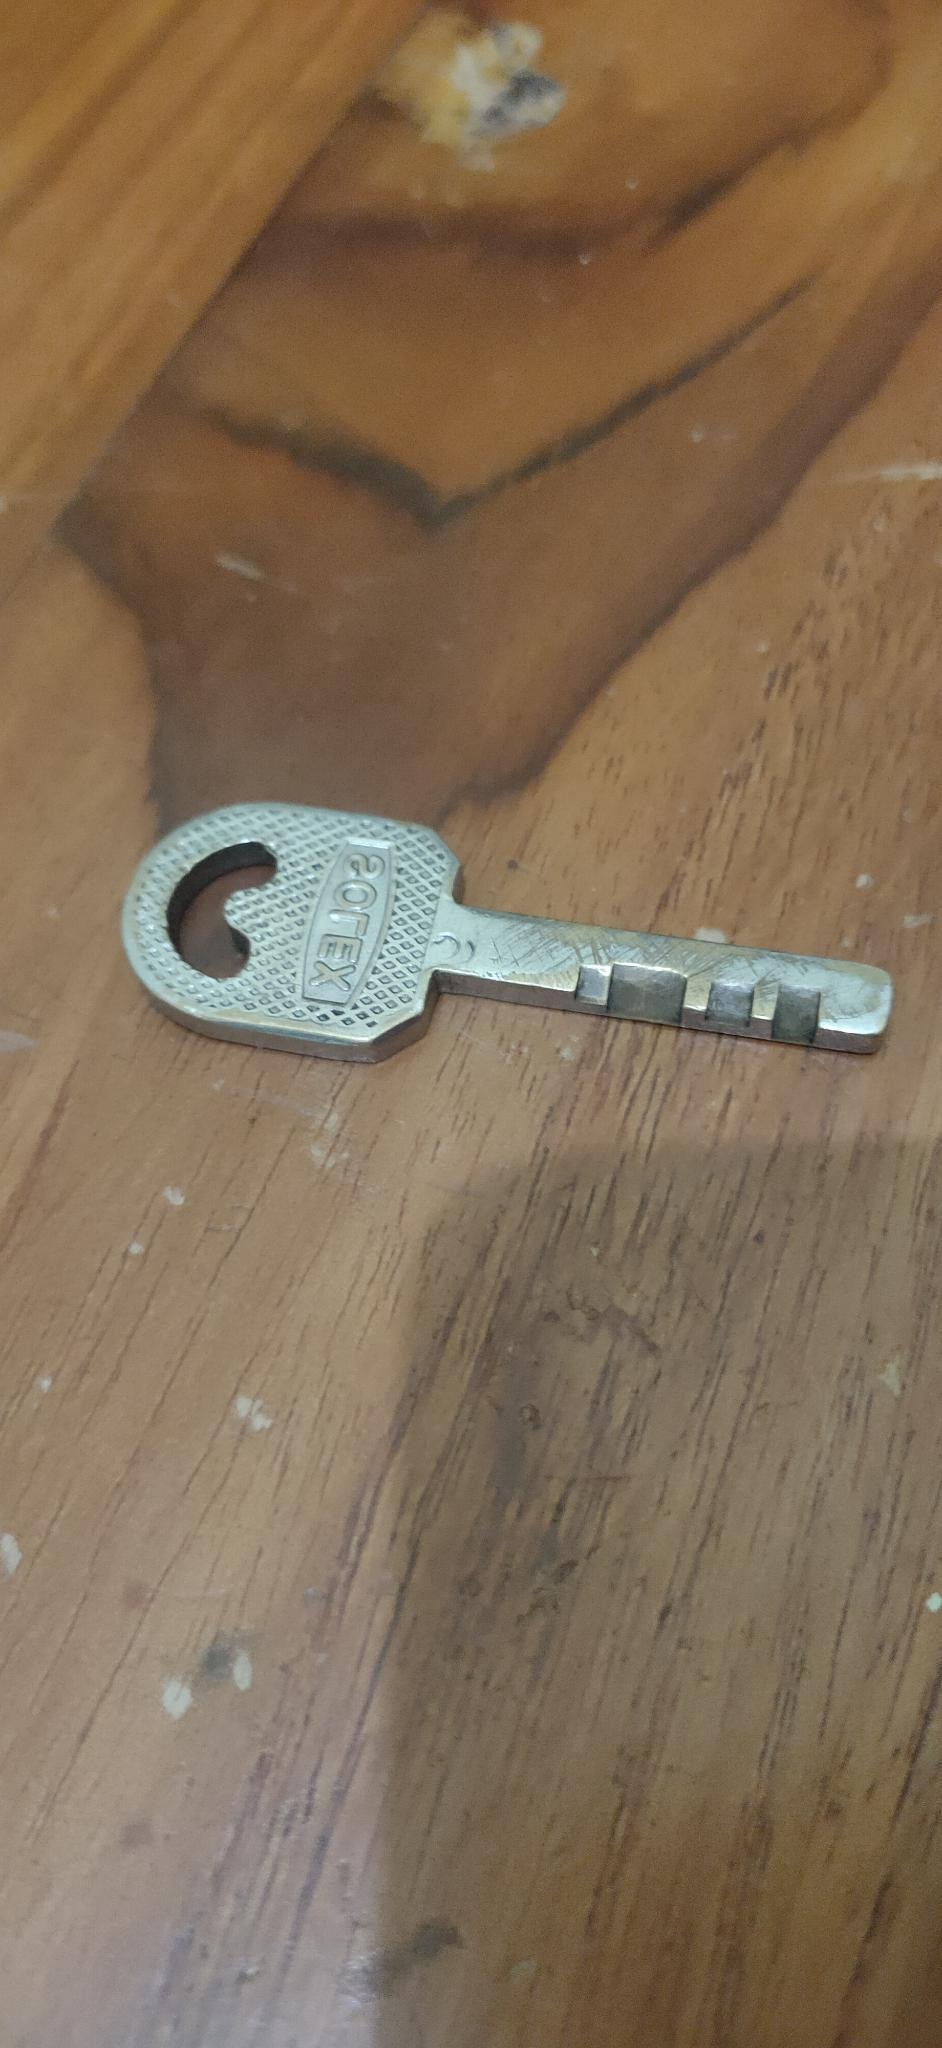keys: (102, 758, 904, 1126)
